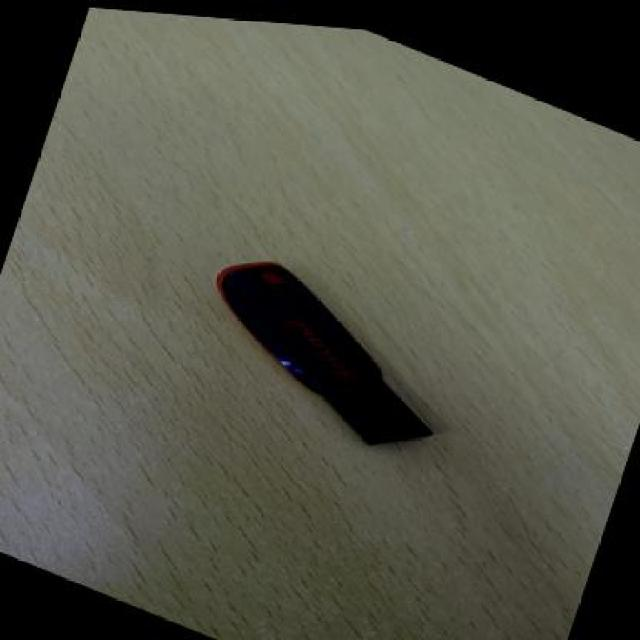Flashdisk: (180, 229, 471, 463)
